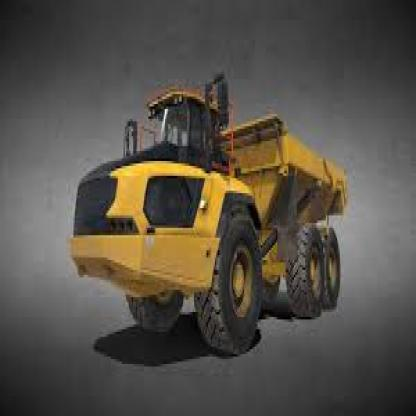dump_truck: (68, 69, 367, 347)
